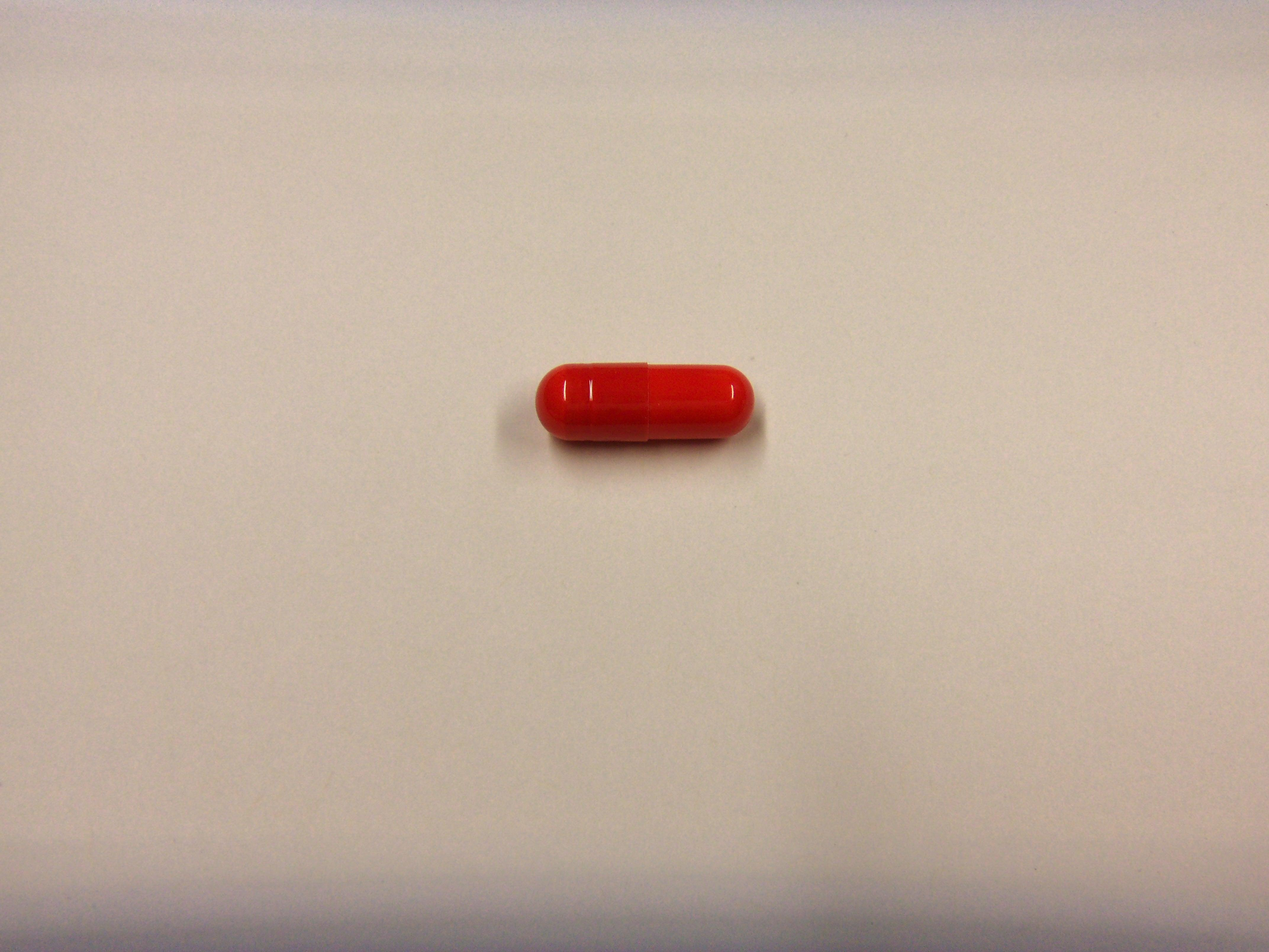Pill: (530, 354, 759, 453)
